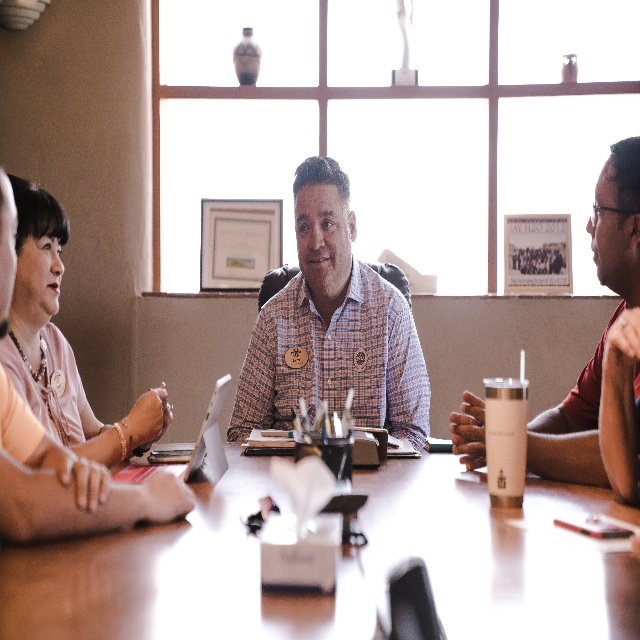Gafas: (590, 201, 636, 226)
Sin_guantes: (47, 444, 110, 516), (448, 391, 489, 473), (122, 388, 163, 459), (148, 472, 194, 528), (608, 305, 640, 368), (149, 384, 172, 448)
